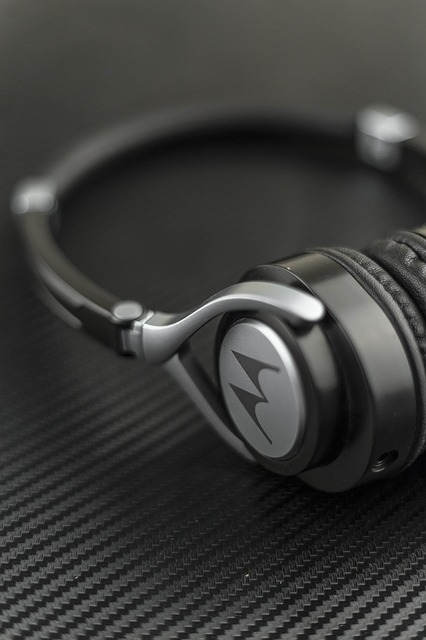headphones: (13, 101, 426, 495)
